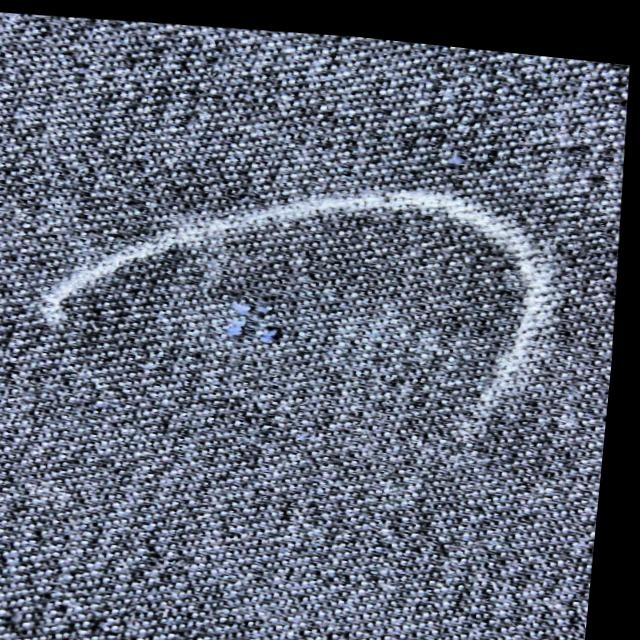Hole: (192, 276, 315, 367), (224, 296, 288, 346)
